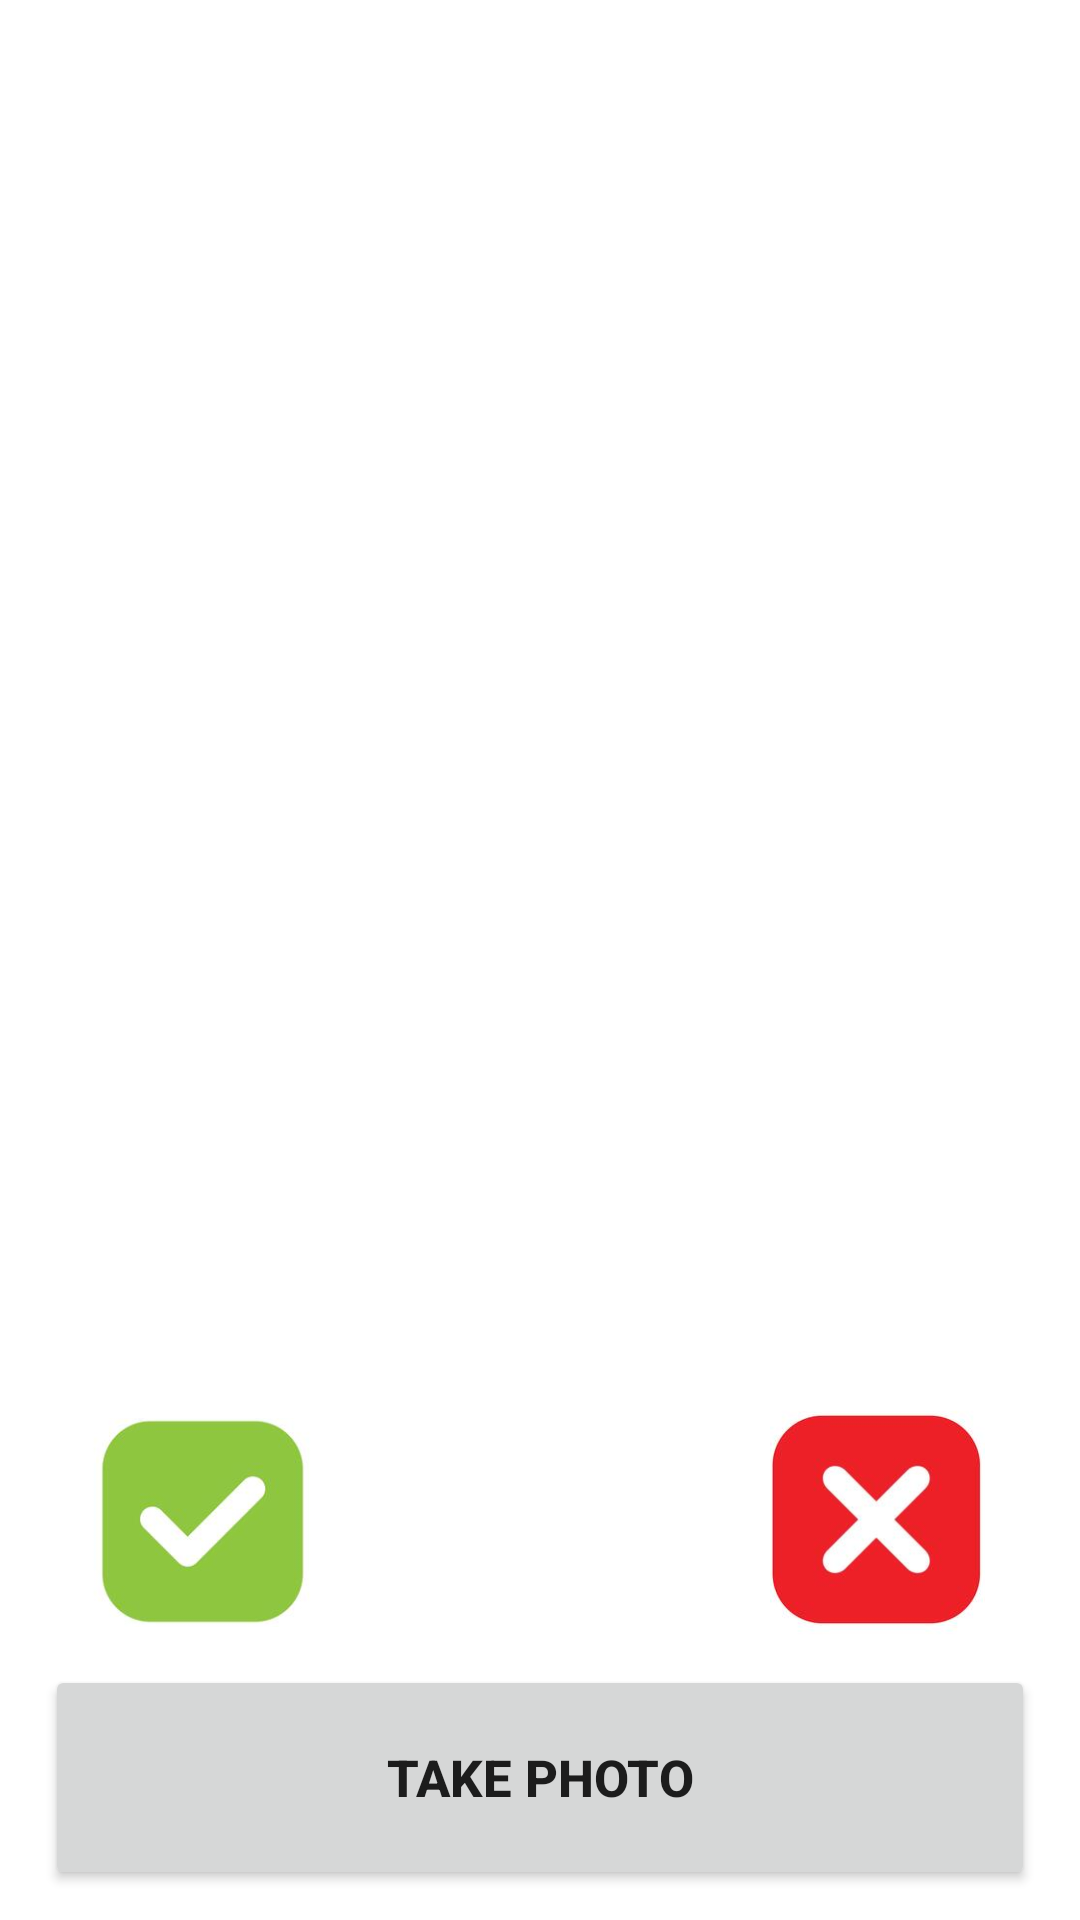

Screen size 1080 × 1920. Icon name, then its center in pixels as point (x, y):
greencheck checkbox: point (202, 1521)
redcross checkbox: point (876, 1519)
